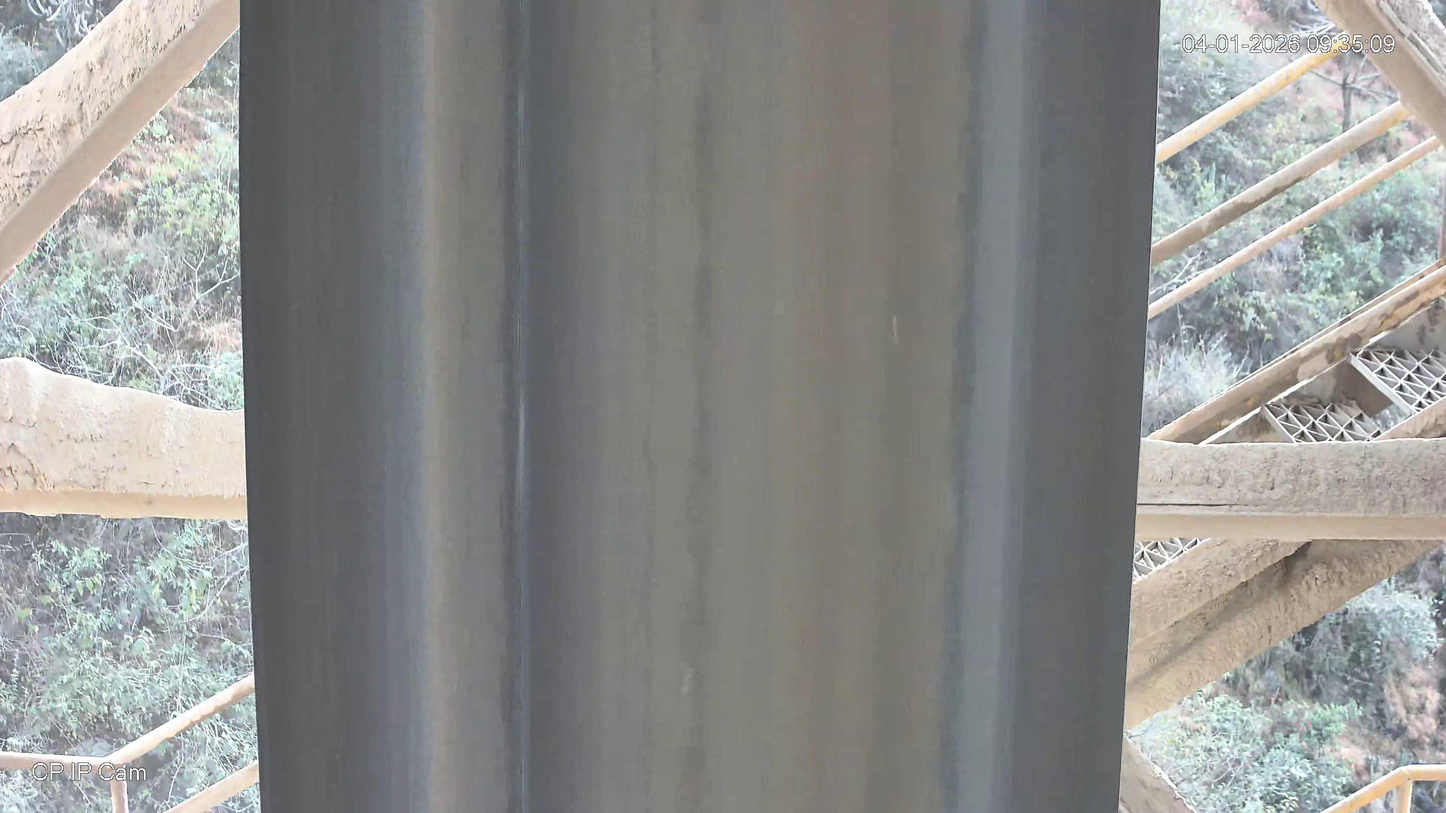belt_roi: (241, 0, 1163, 813)
